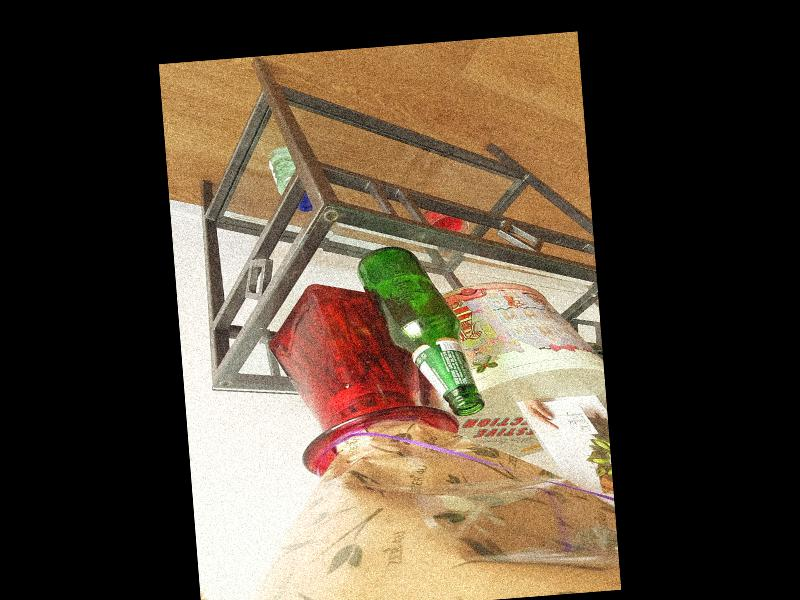Beer: (355, 240, 483, 423)
